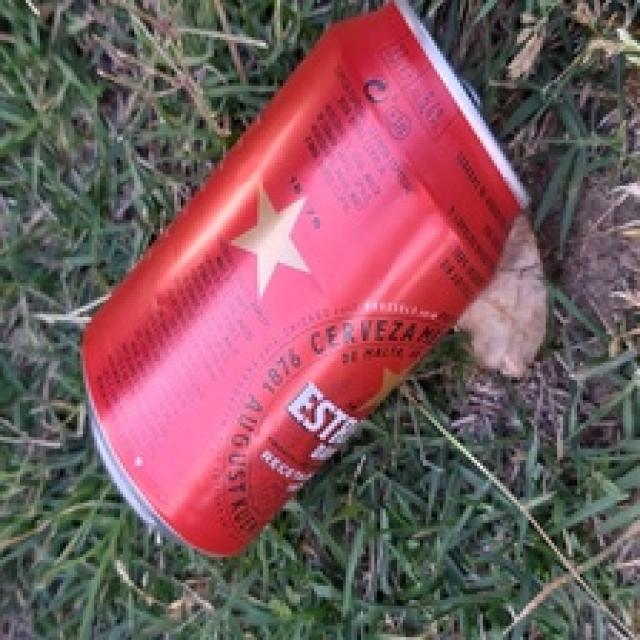recyclable: (77, 0, 534, 557)
